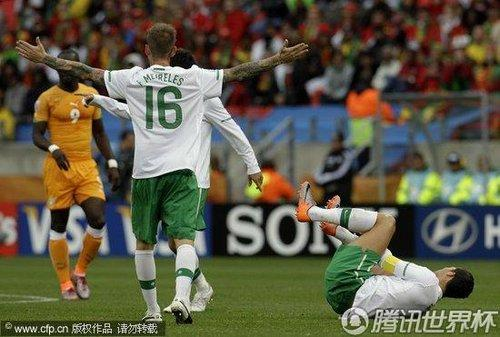down: (290, 179, 481, 322)
up: (93, 20, 225, 322), (29, 47, 116, 305)
